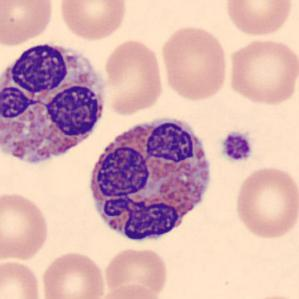Eosinophil: (82, 107, 220, 251), (0, 35, 112, 172)
Platelets: (219, 129, 255, 164)
RBC: (159, 23, 230, 103), (99, 37, 165, 117), (225, 36, 298, 107), (232, 164, 298, 241), (102, 244, 170, 297), (0, 190, 50, 261), (39, 249, 107, 299), (56, 0, 130, 42), (223, 0, 295, 39), (0, 0, 56, 47), (0, 258, 44, 299), (92, 282, 167, 299), (240, 292, 298, 299)
